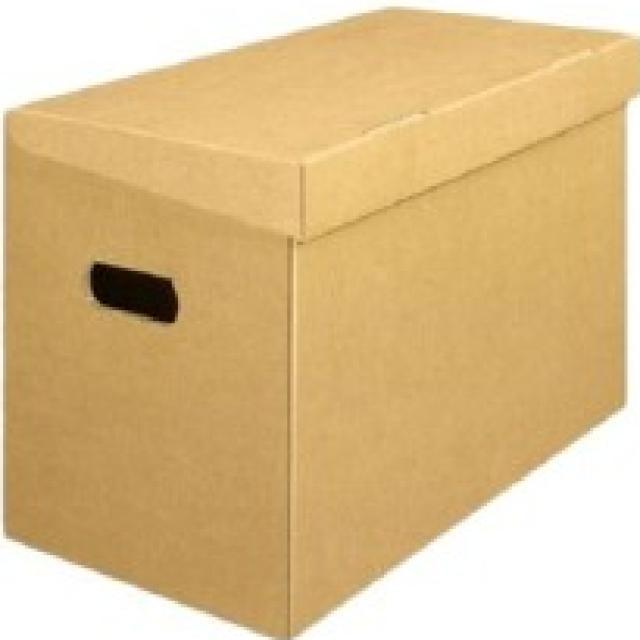box: (1, 1, 640, 640)
normal_hole: (88, 260, 179, 325)
